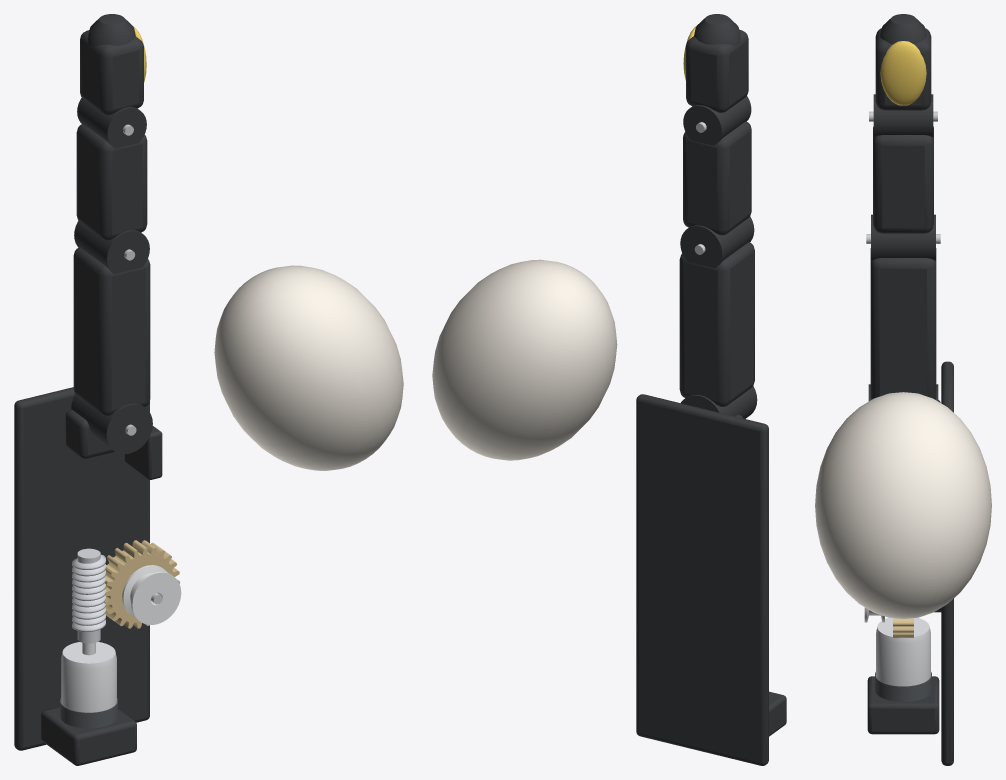
Rendered from actuator_finger.glb.
The picture shows the model from 3 angles, left to right: view 1: azimuth 30°, elevation 25°; view 2: azimuth 150°, elevation 25°; view 3: azimuth 270°, elevation 25°; orthographic projection. The views are drawn at different scales.
Visible parts, largest first — view 1: palm, egg, phalanx_1, phalanx_2, phalanx_3, wheel, motor, worm; view 2: palm, egg, phalanx_1, phalanx_2, phalanx_3; view 3: egg, phalanx_1, phalanx_2, palm, phalanx_3, motor, tip_sensor, wheel.
Boxes of the visible parts, box(x1,y1,x2,y2) form: palm: box(14, 387, 162, 765); egg: box(214, 265, 403, 470); phalanx_1: box(71, 247, 152, 453); phalanx_2: box(74, 124, 149, 274); phalanx_3: box(77, 14, 146, 148); wheel: box(104, 540, 181, 628); motor: box(60, 642, 117, 728); worm: box(72, 548, 105, 643); palm: box(636, 394, 786, 765); egg: box(432, 259, 617, 460); phalanx_1: box(679, 242, 757, 418); phalanx_2: box(680, 121, 754, 268); phalanx_3: box(683, 14, 751, 145); egg: box(815, 392, 991, 618); phalanx_1: box(868, 248, 938, 401); phalanx_2: box(866, 126, 940, 261); palm: box(867, 361, 953, 765); phalanx_3: box(869, 14, 937, 137); motor: box(875, 617, 931, 701); tip_sensor: box(880, 41, 926, 105); wheel: box(864, 607, 913, 637).
Size of the model in its own units: 0.0957 by 0.189 by 0.042.
